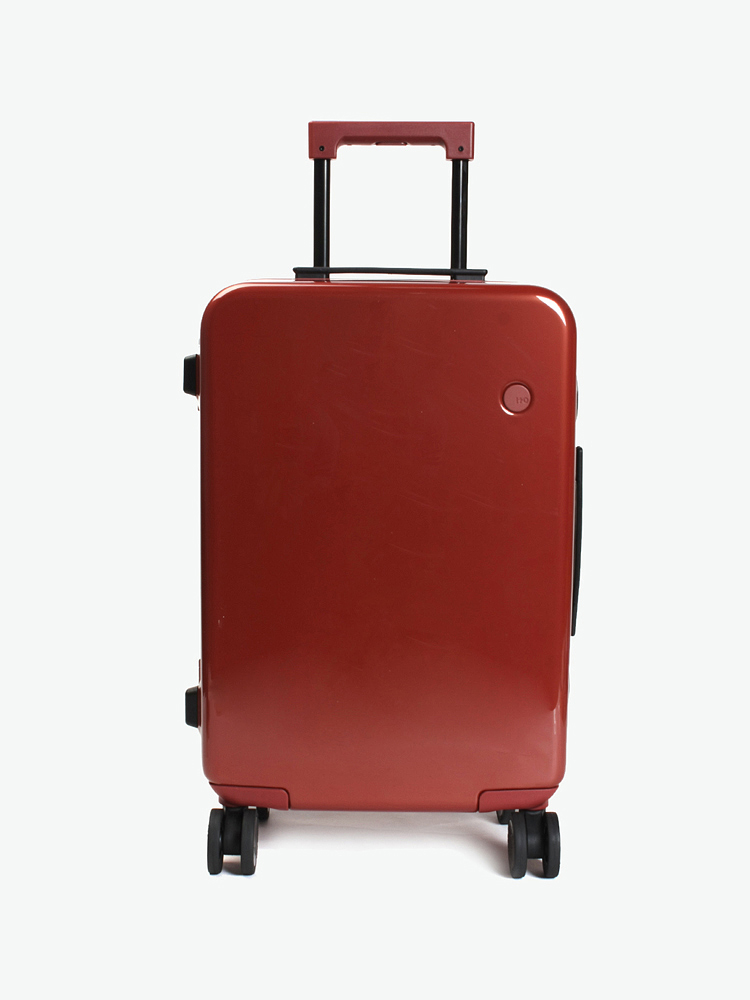luggage: (182, 117, 587, 879)
